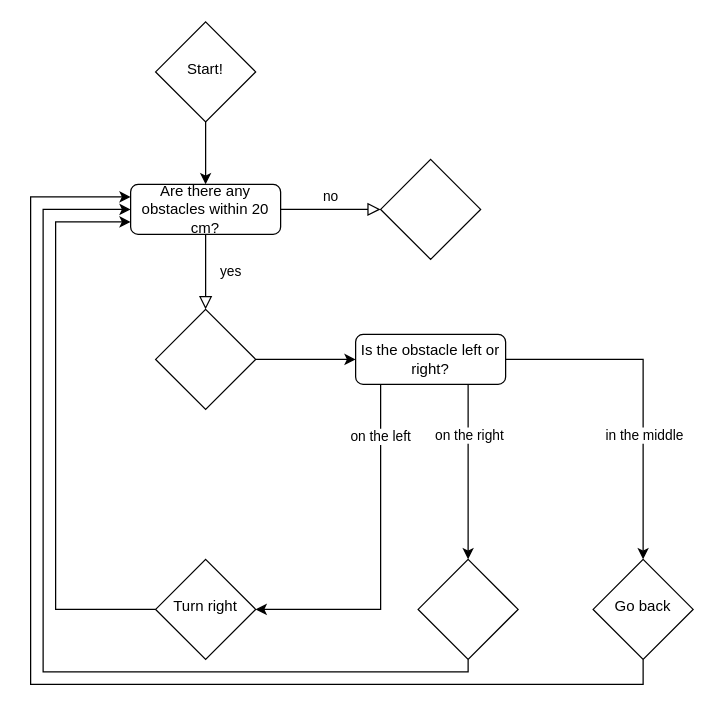
The diagram is 715 pixels wide and 716 high, and some of its shapes have lost their labels. Here are the shapes that lost their labels. From the top down, the centre of each, then its label:
point (430, 208): Go straight
point (205, 358): Slow down
point (467, 608): Turn left
